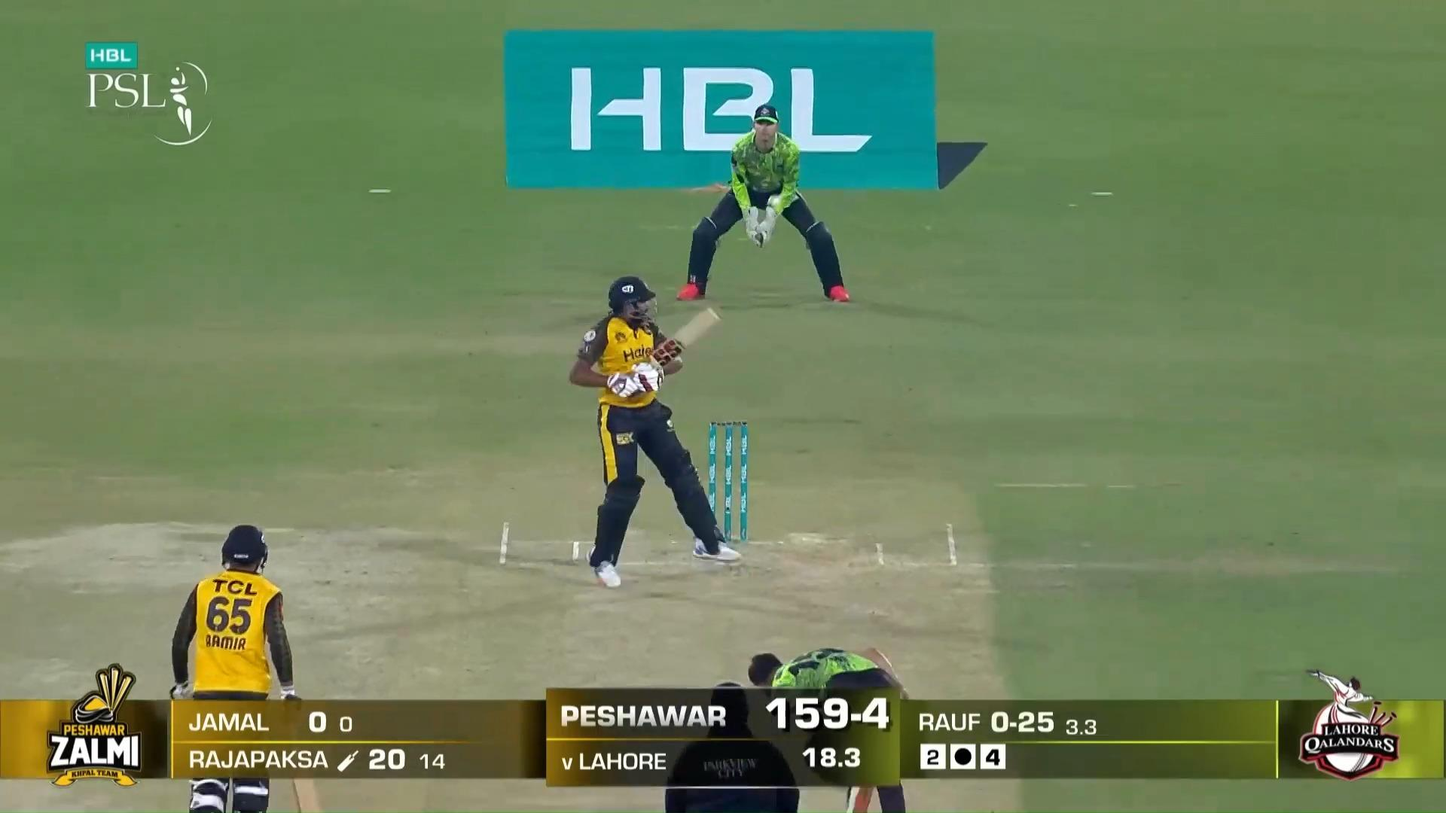batsman: (570, 274, 743, 588)
